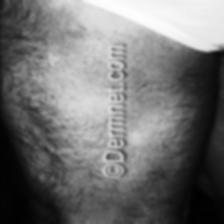Potentially Malignant Skin Tumors: (55, 30, 107, 108)
